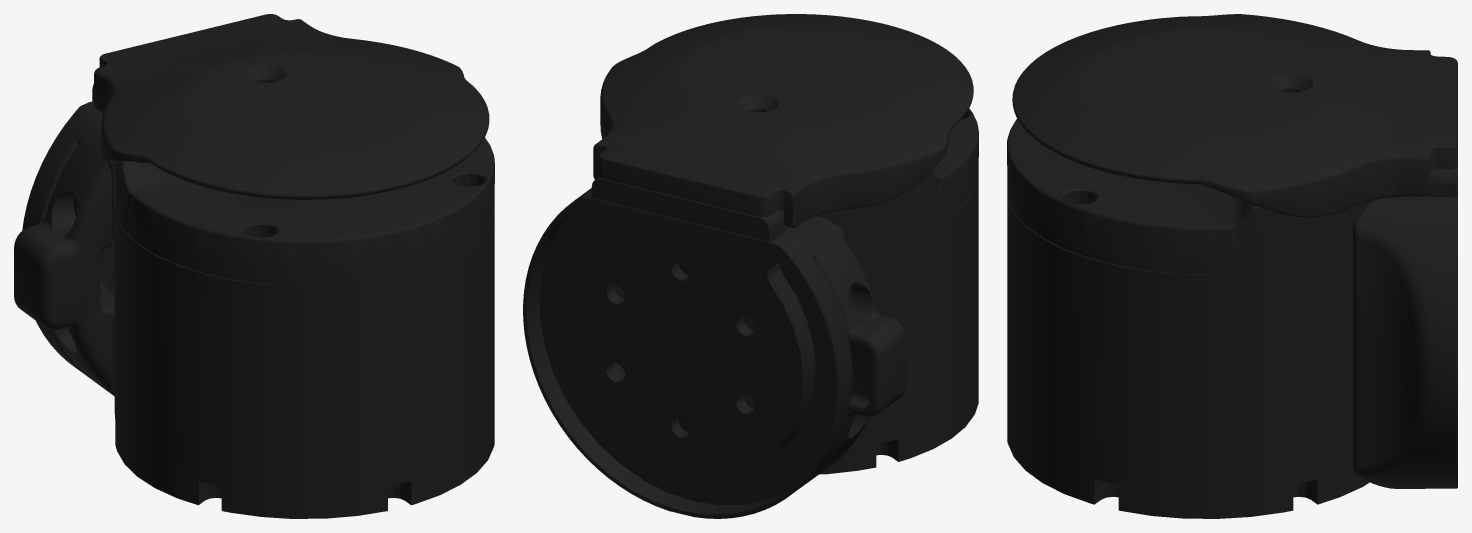
3 renders of one model, left to right at view 1: azimuth 30°, elevation 25°; view 2: azimuth 150°, elevation 25°; view 3: azimuth 270°, elevation 25°, orthographic. The views are drawn at different scales.
Size of the model in its own units: 0.0627 by 0.0611 by 0.0644.
Materials: 1 (1 with a texture image).
